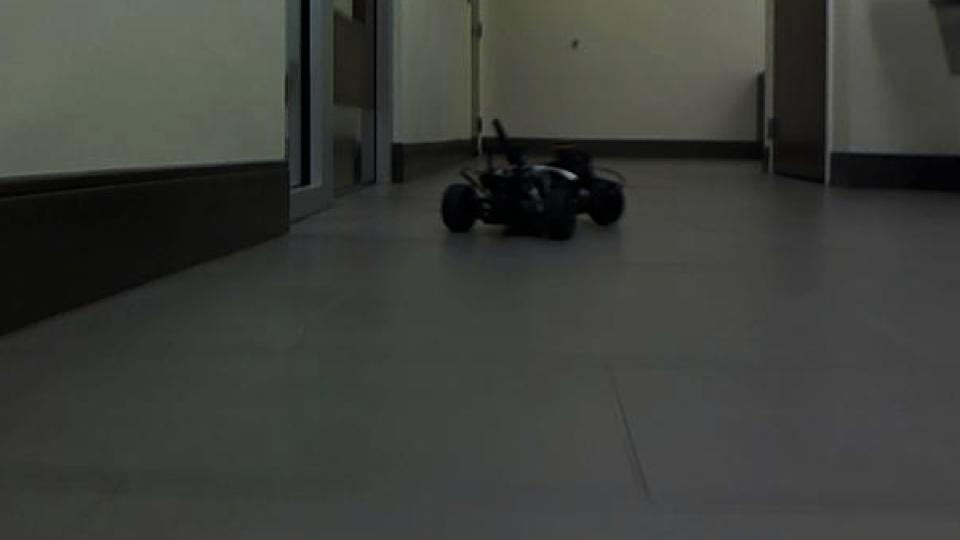car: (437, 116, 629, 244)
